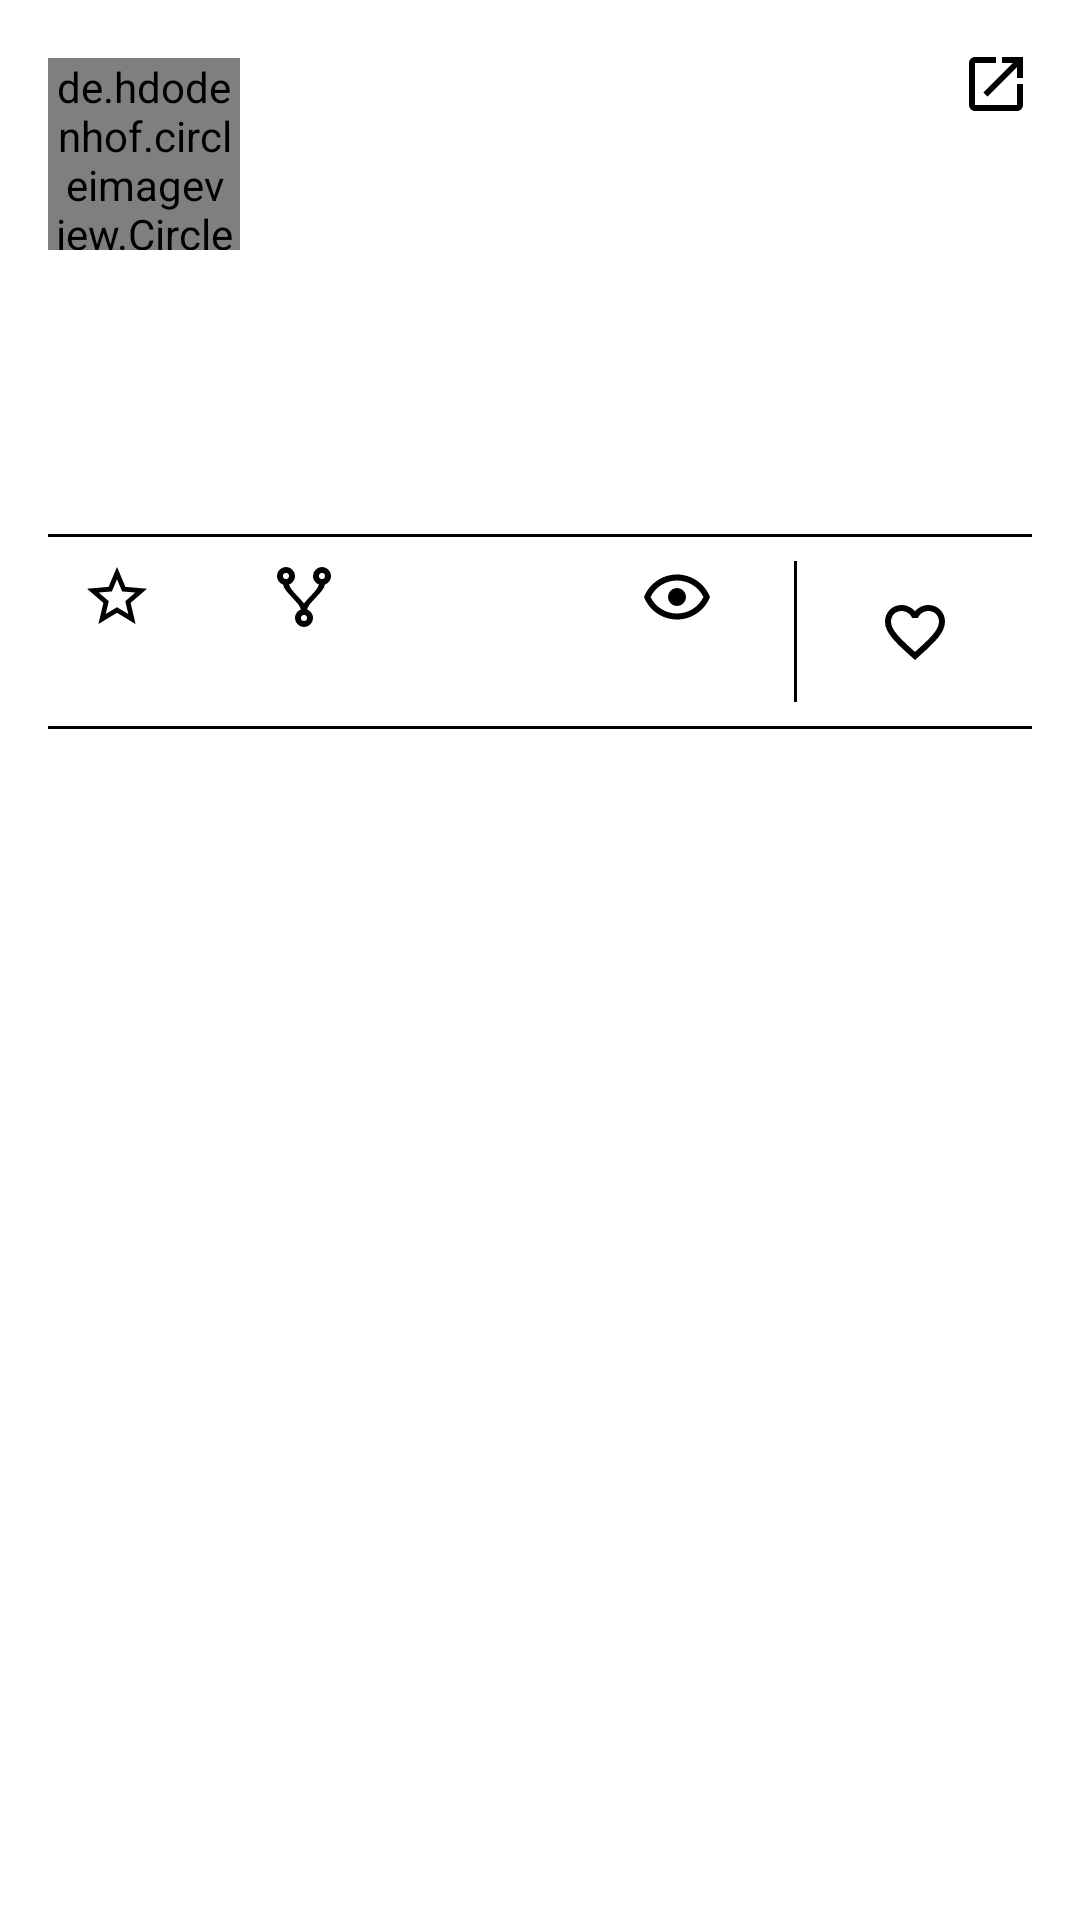

Icon click points for this 1080×1920 phone screenshot, format [x,y]:
favorite no: [915,632]
open url: [996,84]
